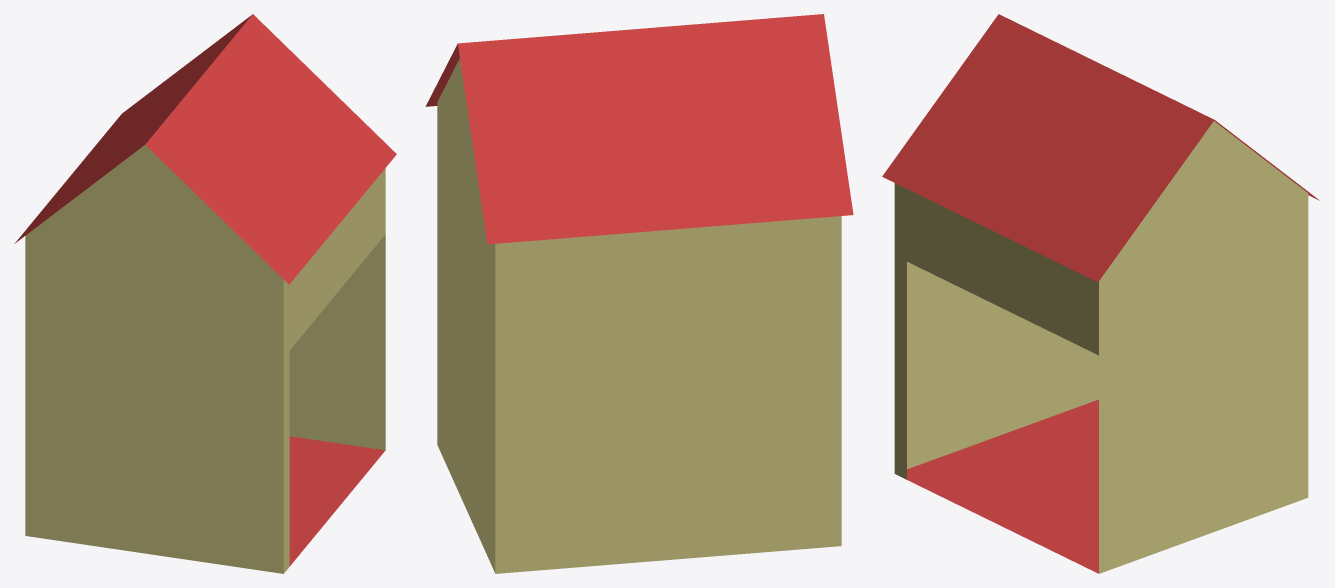
3 views of the same model, side by side, from view 1: azimuth 30°, elevation 25°; view 2: azimuth 150°, elevation 25°; view 3: azimuth 270°, elevation 25° (orthographic). The views are drawn at different scales.
Size of the model in its own units: 12.31 by 12.2 by 12.79.
